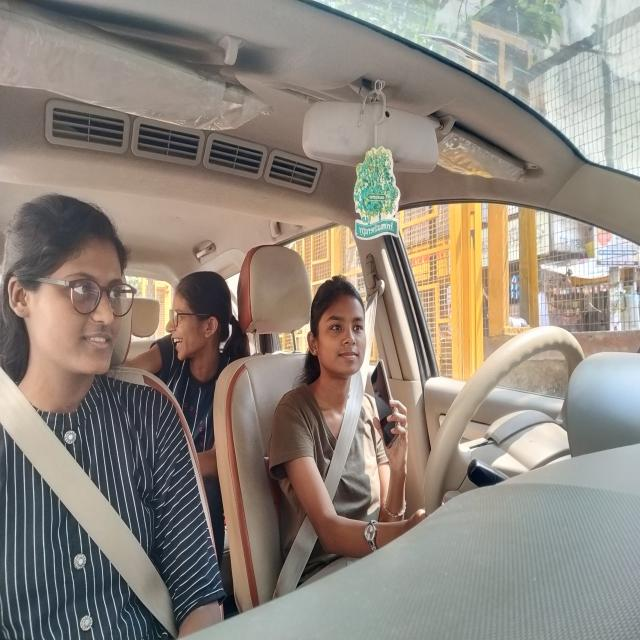mobile: (367, 358, 403, 452)
person: (4, 193, 136, 373), (305, 277, 372, 376), (165, 272, 237, 364)
